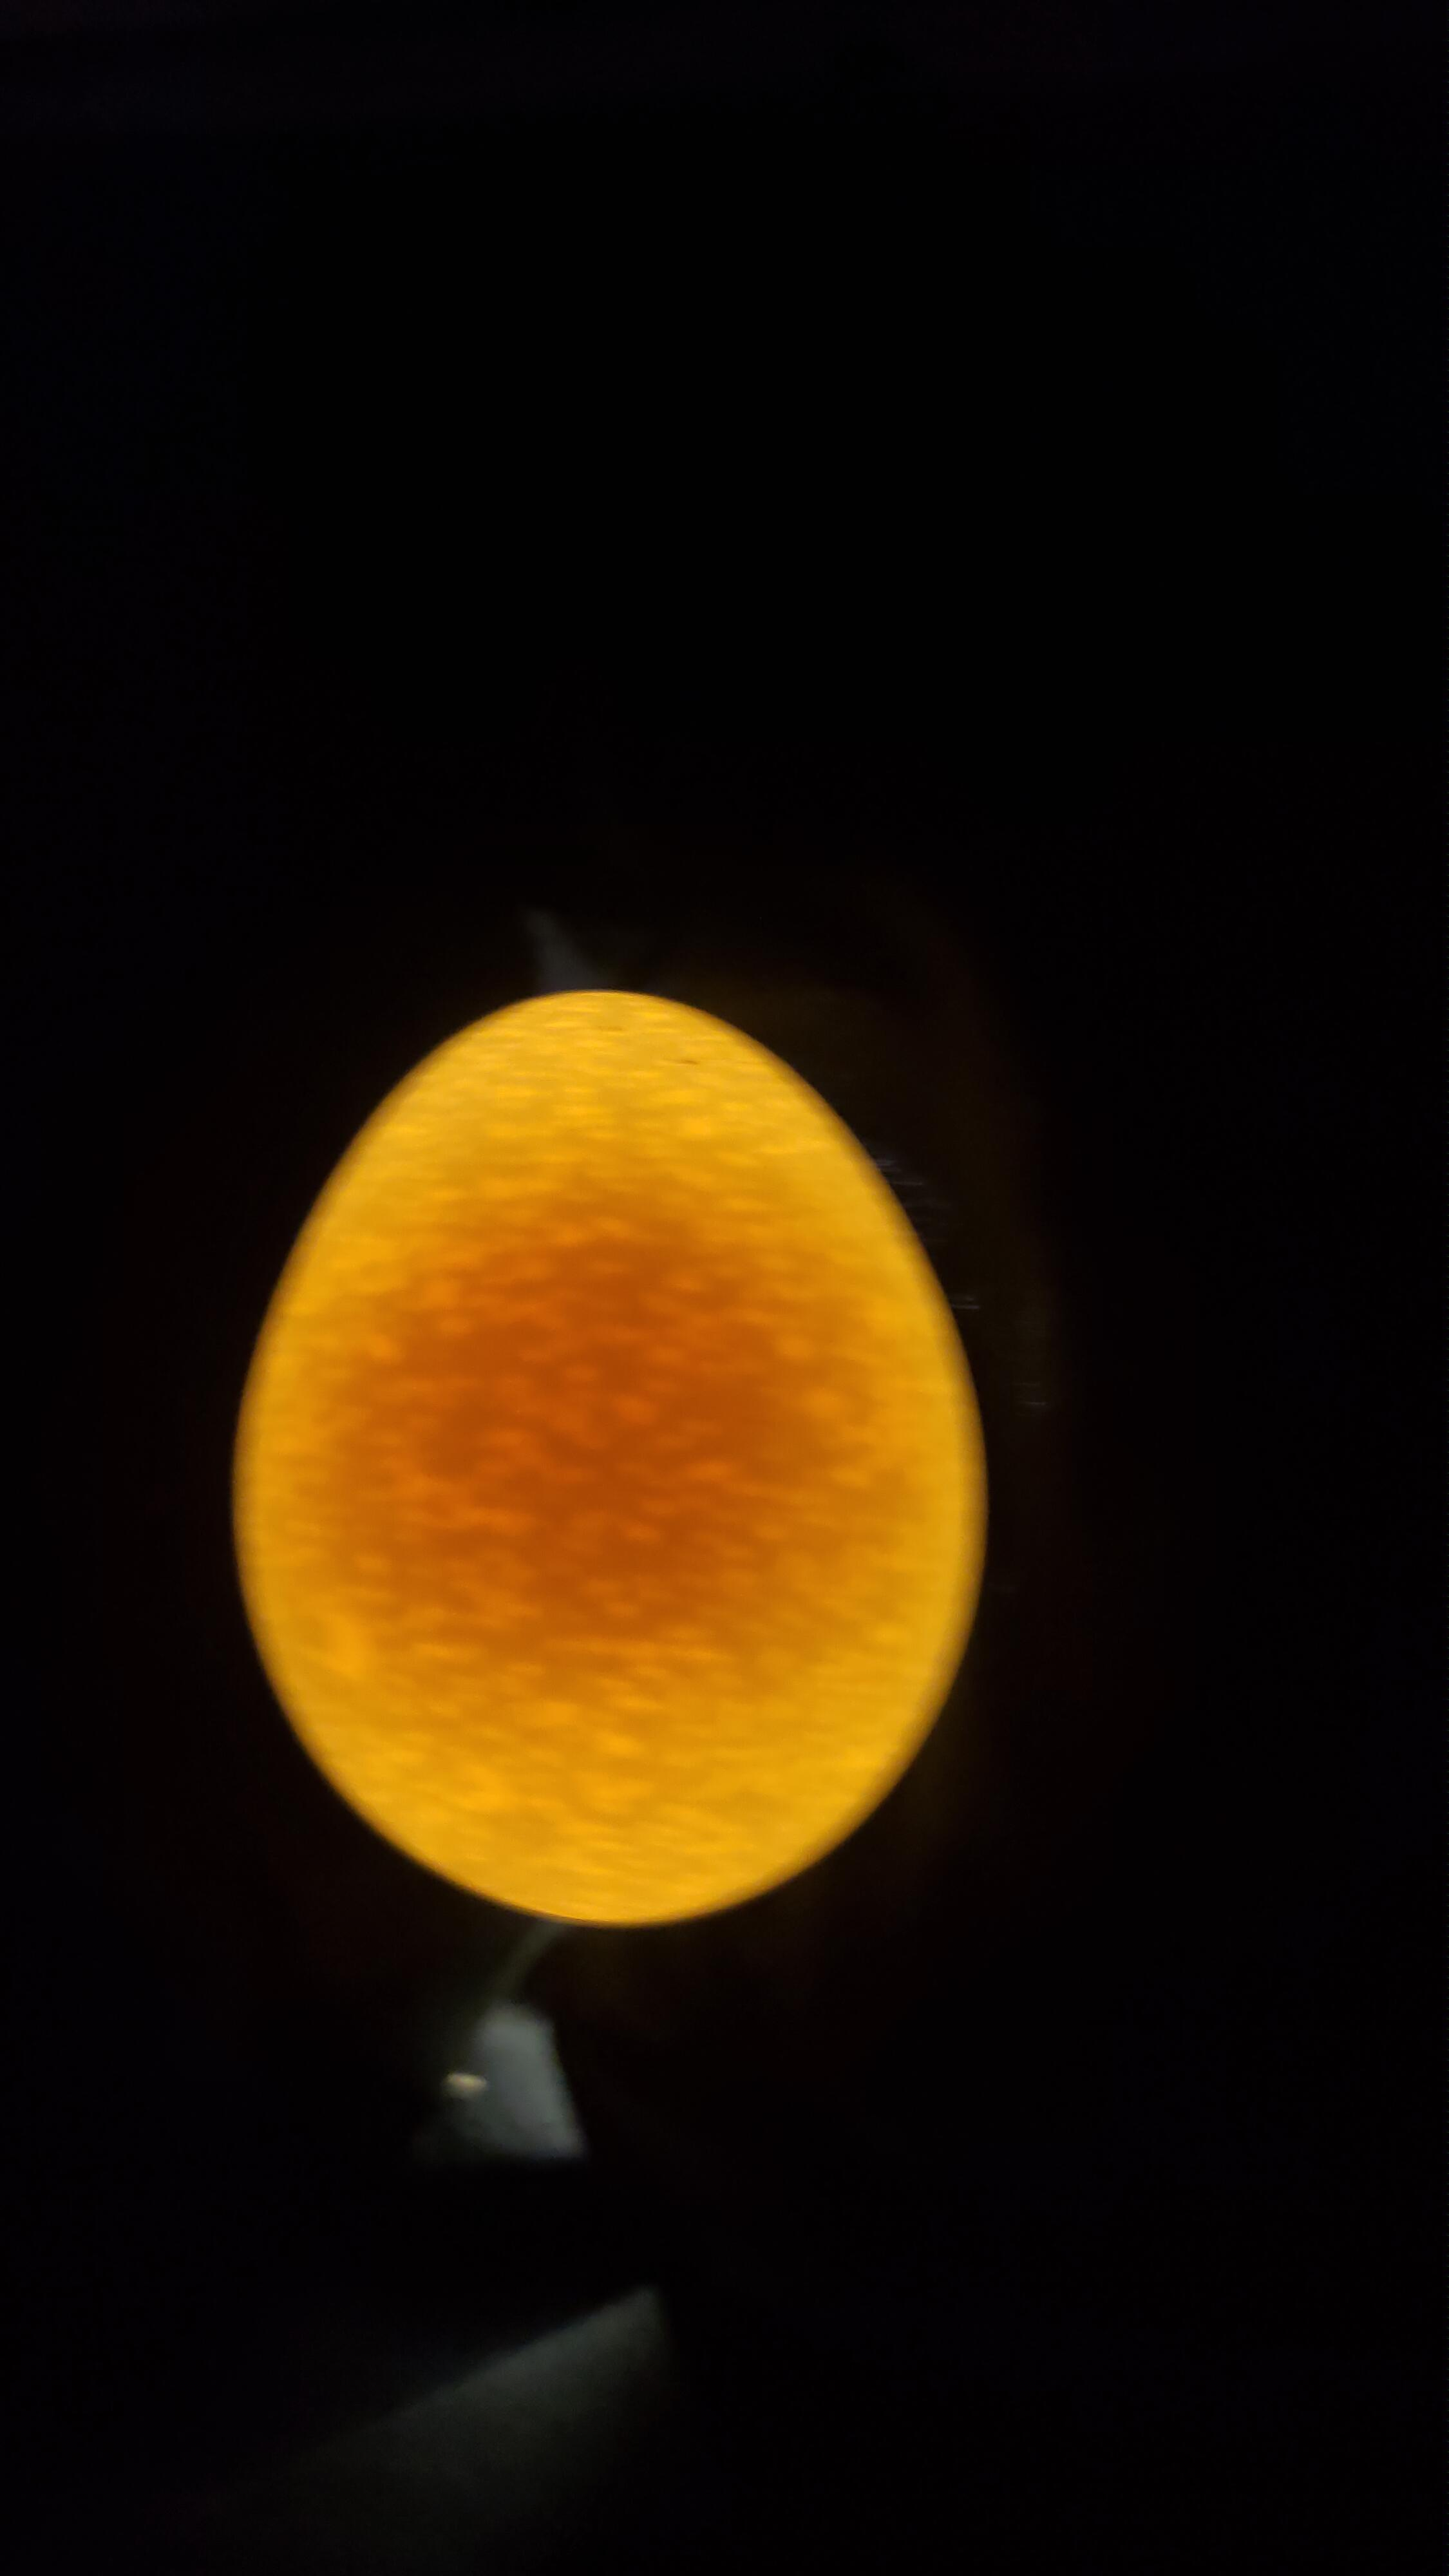A - Good: (205, 966, 1024, 1971)
